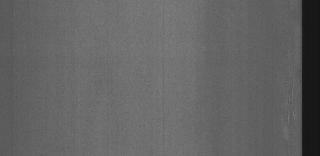silk spot: (278, 84, 300, 142)
